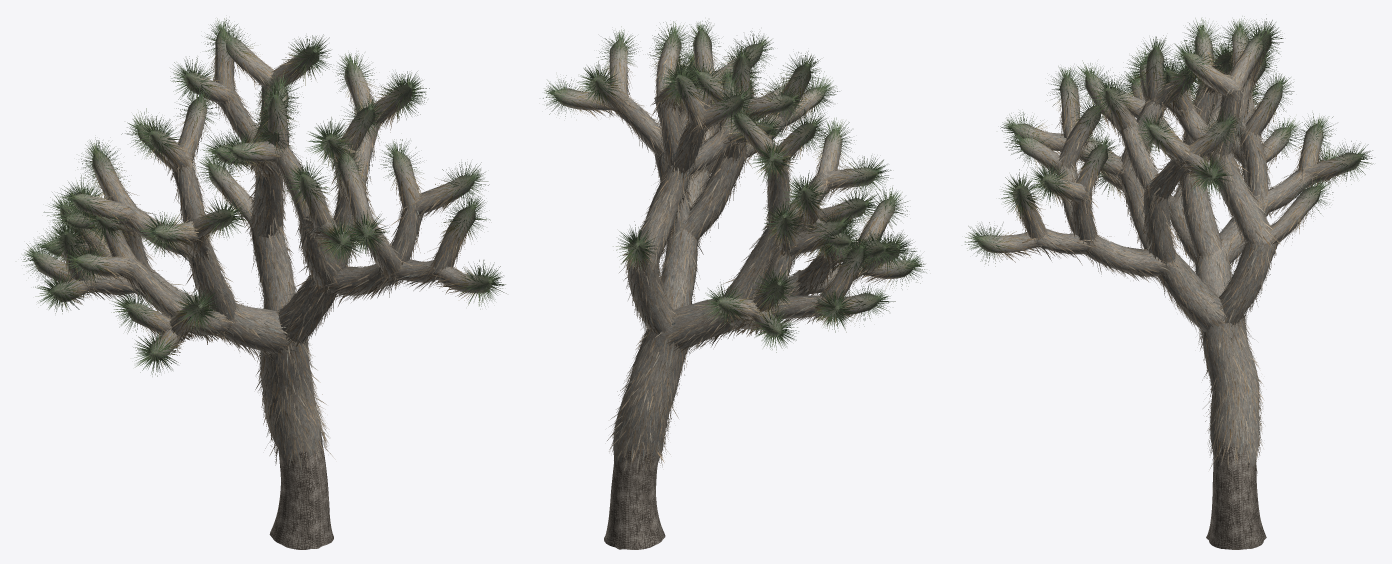
Rendered from joshua_d.glb.
3 renders of one model, left to right at view 1: azimuth 30°, elevation 25°; view 2: azimuth 150°, elevation 25°; view 3: azimuth 270°, elevation 25°, orthographic. The views are drawn at different scales.
Parts seen in each view (by area): view 1: joshua_d; view 2: joshua_d; view 3: joshua_d.
Part boxes in pixels (x1=…): joshua_d: x1=21, y1=18, x2=506, y2=549; joshua_d: x1=543, y1=20, x2=926, y2=549; joshua_d: x1=965, y1=16, x2=1373, y2=549.
Bounding box in the file's own units: 6.69 × 8.94 × 6.84.
Materials: 3 (3 with a texture image).
